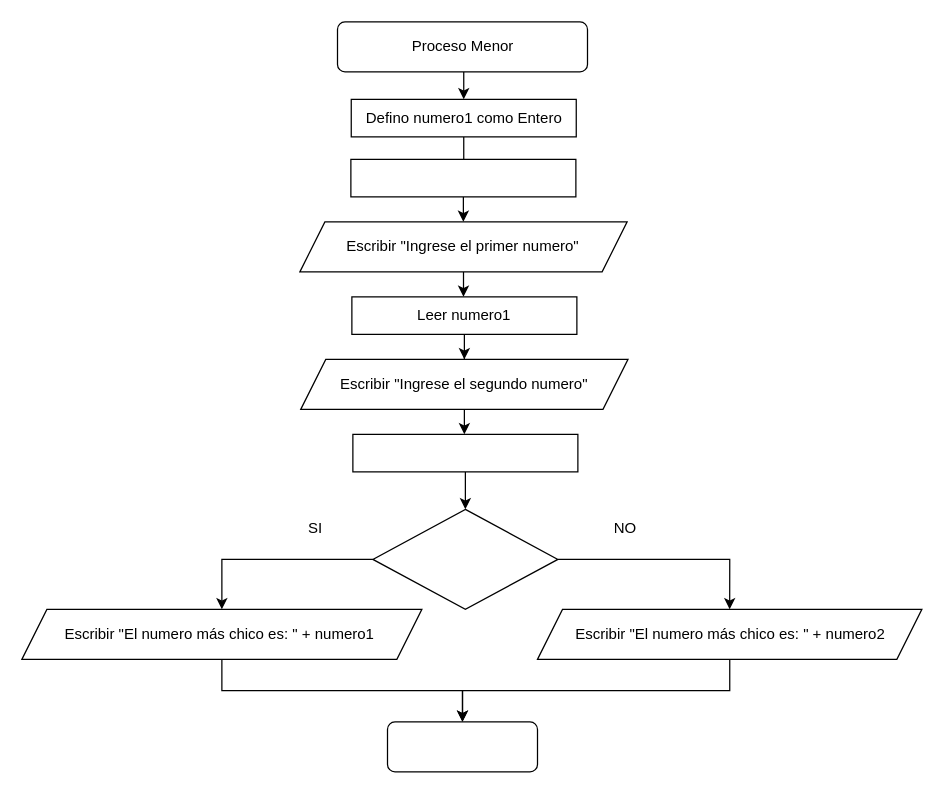
This 944x794 diagram has some shape labels left out. Here are the shapes that lost their labels. From the top down, the box of each, then its label:
(350, 158, 576, 197): Defino numero2 como Entero
(352, 433, 578, 472): Leer numero2
(372, 508, 558, 609): numero1 < numero2
(386, 721, 538, 772): Fin Proceso
